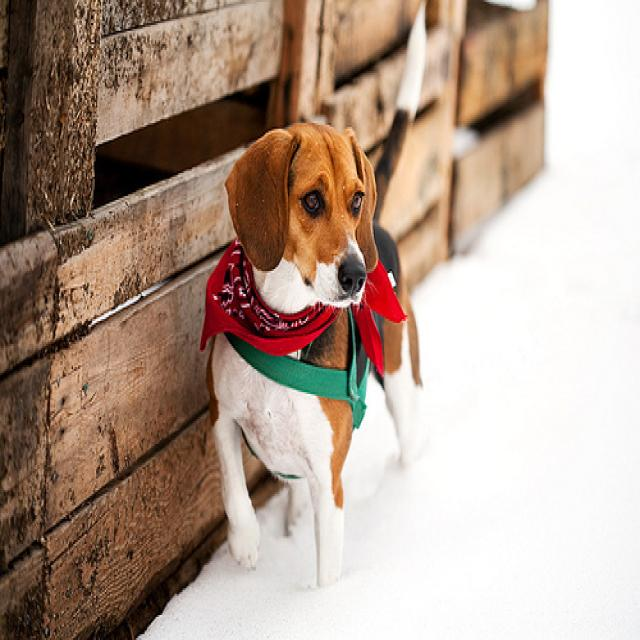dog-beagle: (197, 2, 436, 607)
